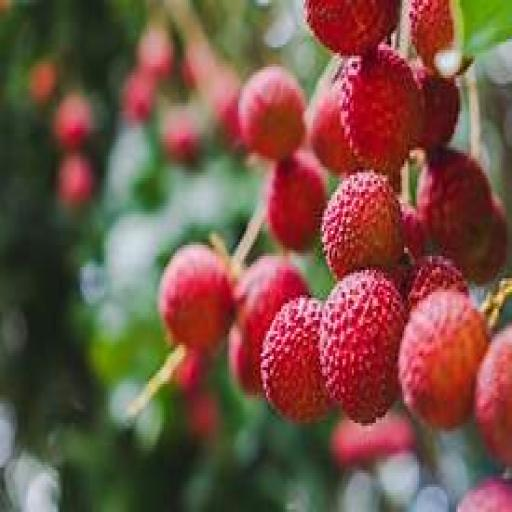lychee: (321, 270, 405, 422), (399, 290, 489, 428), (341, 45, 424, 183), (237, 256, 309, 392), (418, 148, 491, 267), (323, 173, 404, 278), (261, 298, 329, 422), (159, 245, 234, 353), (239, 67, 305, 158), (267, 151, 327, 250), (306, 0, 400, 55), (475, 329, 511, 464), (310, 81, 359, 175), (332, 412, 415, 467), (459, 198, 508, 283), (416, 67, 459, 150), (408, 256, 469, 308), (410, 0, 454, 69), (228, 326, 262, 395), (54, 92, 93, 150), (162, 109, 201, 164), (58, 154, 94, 208), (138, 28, 173, 80), (457, 479, 511, 511), (123, 70, 156, 122), (401, 204, 428, 258), (28, 59, 57, 105)
